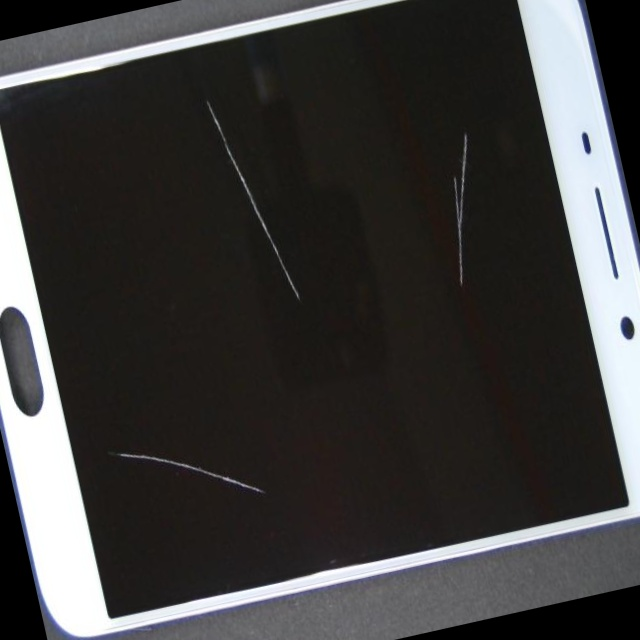scratch: (108, 126, 502, 510), (89, 269, 419, 640), (201, 28, 628, 279)
